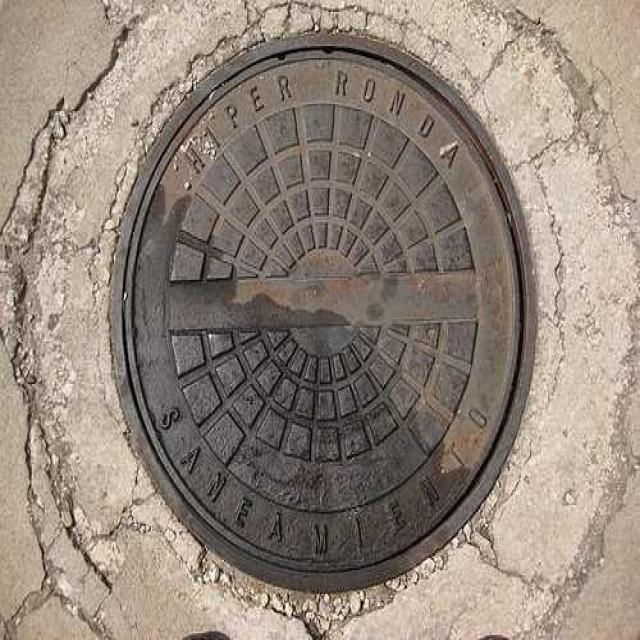manhole: (115, 35, 534, 590)
